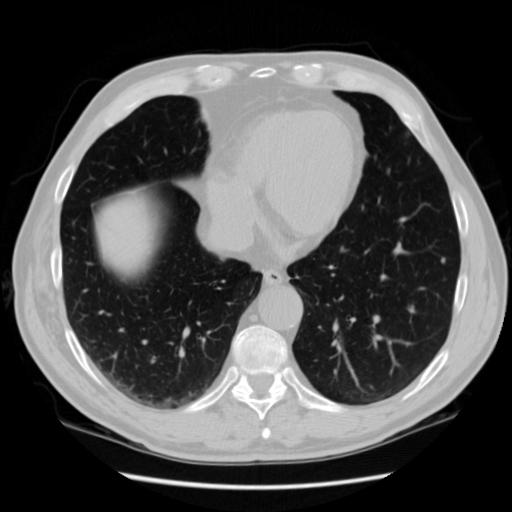nodule: (438, 255, 450, 267)
